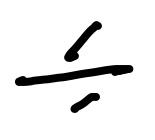div: (15, 21, 134, 115)
